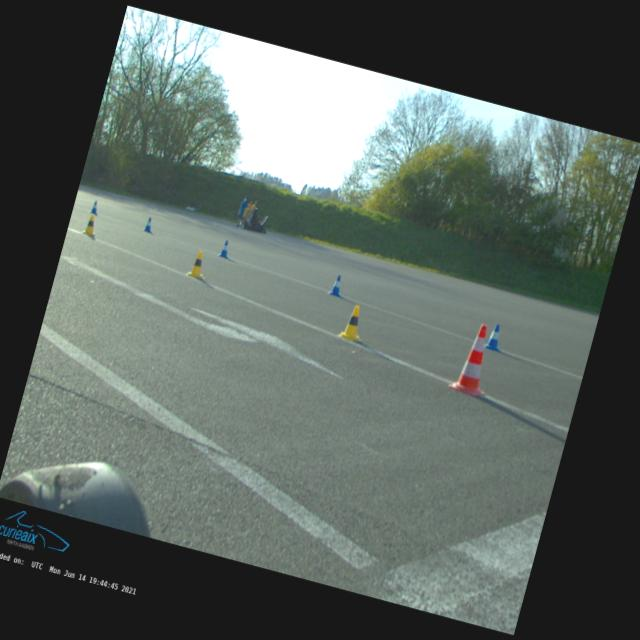blue_cone: (483, 322, 506, 352), (328, 273, 347, 297), (218, 239, 233, 259), (142, 216, 156, 233), (89, 200, 100, 214), (240, 196, 248, 204)
large_orange_cone: (447, 320, 501, 398)
yellow_cone: (336, 302, 369, 342), (186, 248, 210, 280), (82, 213, 100, 237), (251, 200, 257, 208), (244, 202, 250, 210)
